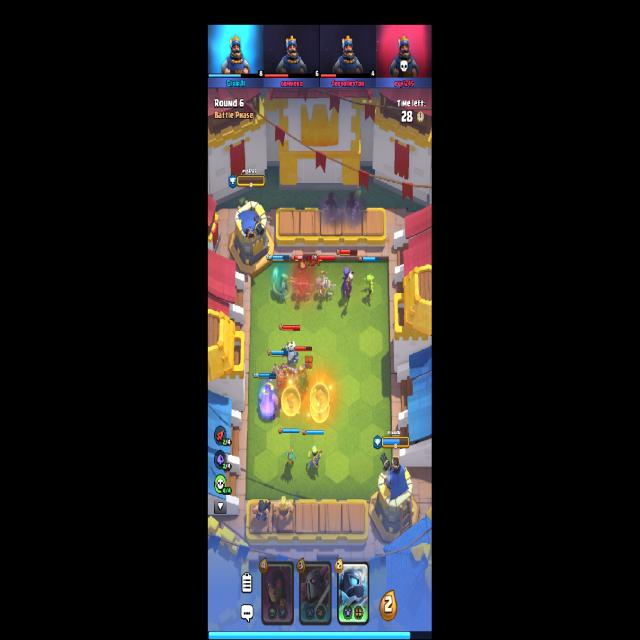bandit: (272, 271, 289, 303)
card_mini_pekka: (337, 560, 369, 625)
card_pekka: (299, 560, 332, 626)
card_witch: (261, 560, 294, 626)
dart_goblin: (284, 443, 296, 468)
executioner: (251, 500, 271, 522)
goblin: (364, 274, 376, 300)
goblin_machine: (272, 362, 297, 393)
golden_knight: (273, 490, 298, 518)
mega_knight: (258, 383, 281, 421)
prince: (286, 363, 310, 395)
royal_ghost: (282, 338, 299, 368)
skeleton_dragon: (315, 270, 336, 301), (292, 273, 314, 302)
spear_goblin: (308, 446, 323, 470)
witch: (342, 267, 354, 298)
